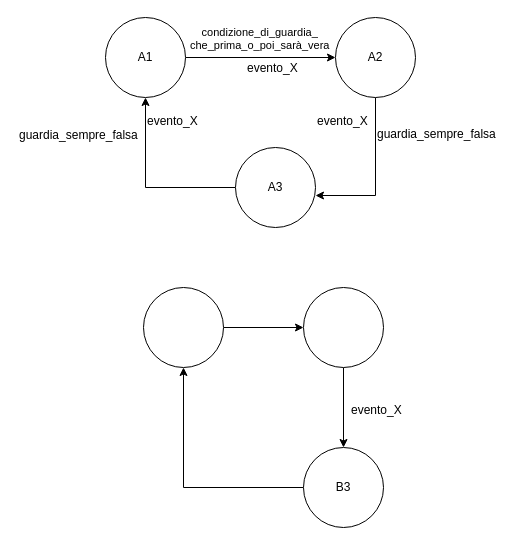
The diagram is 532 pixels wide and 545 high, and some of its shapes have lost their labels. The shapes that lost their labels are listed below. From the top down, each one's centre as x and y in pixels, then its label:
the point at 183,327: B1
the point at 343,327: B2
